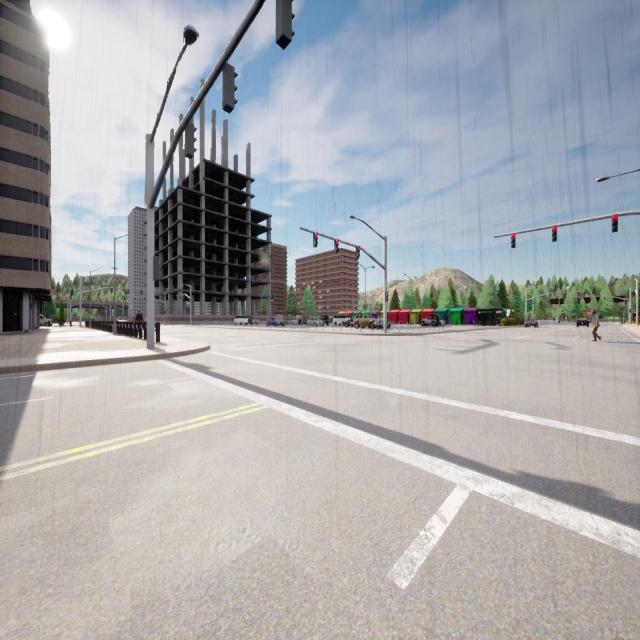Pedestrian: (591, 309, 600, 342), (136, 310, 143, 321)
Vehicle: (354, 314, 374, 328), (372, 318, 391, 329), (333, 316, 350, 326), (421, 316, 437, 326), (234, 316, 248, 325), (524, 318, 538, 327), (40, 315, 51, 326), (267, 319, 284, 326), (308, 318, 322, 326), (577, 318, 589, 327), (320, 315, 329, 325), (250, 318, 258, 326), (116, 317, 128, 322), (346, 320, 354, 327), (292, 319, 298, 325)
traffic_light: (275, 0, 295, 50), (222, 66, 238, 114), (185, 124, 196, 159), (154, 256, 160, 280), (612, 215, 618, 232), (552, 226, 557, 242), (511, 234, 516, 248), (313, 233, 317, 247), (356, 246, 359, 259), (335, 240, 338, 252), (386, 292, 388, 302), (134, 296, 136, 300), (164, 311, 166, 314), (578, 296, 580, 299), (630, 309, 631, 313), (590, 296, 592, 298), (604, 296, 606, 298), (124, 296, 125, 299)
